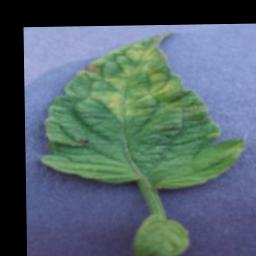Leaf_Mold: (75, 30, 186, 124)
